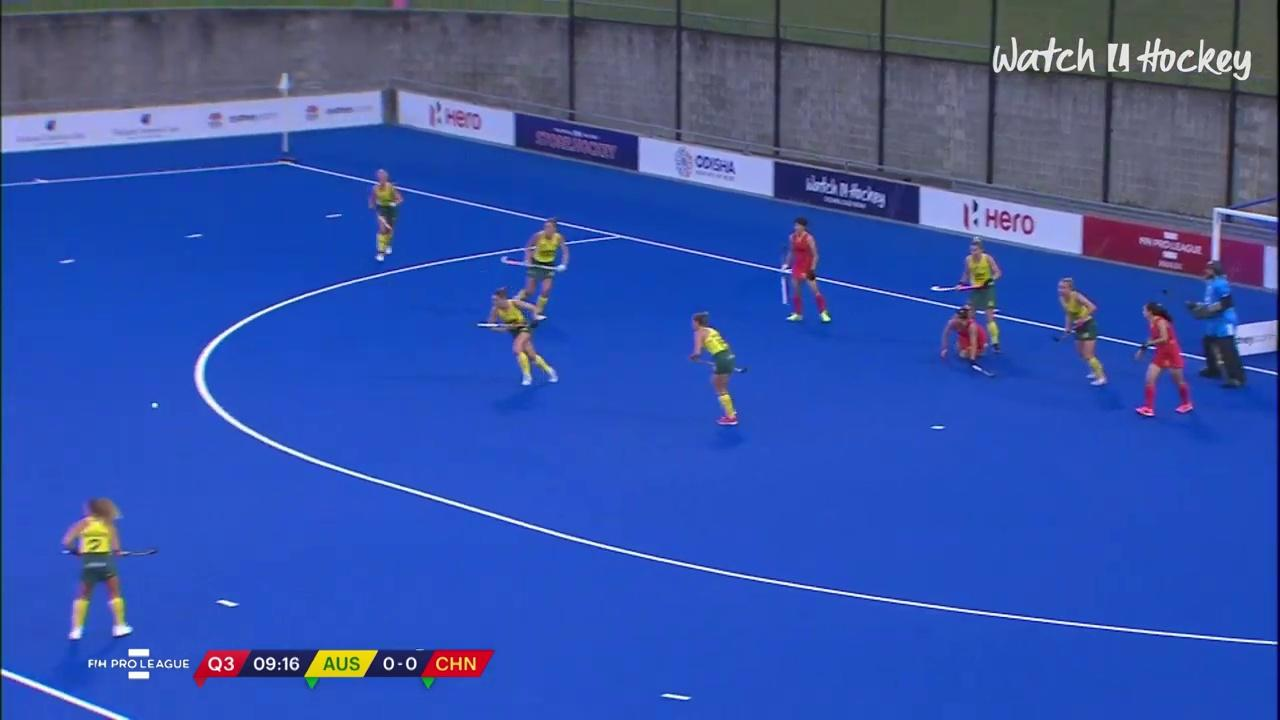ball: (145, 396, 168, 416)
